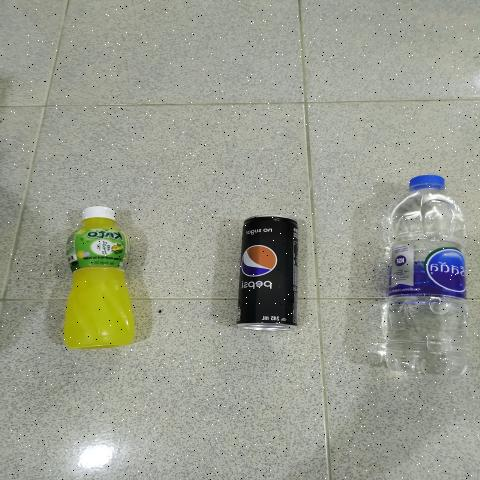crystal: (377, 170, 468, 373)
pepsi_black: (233, 210, 305, 332)
